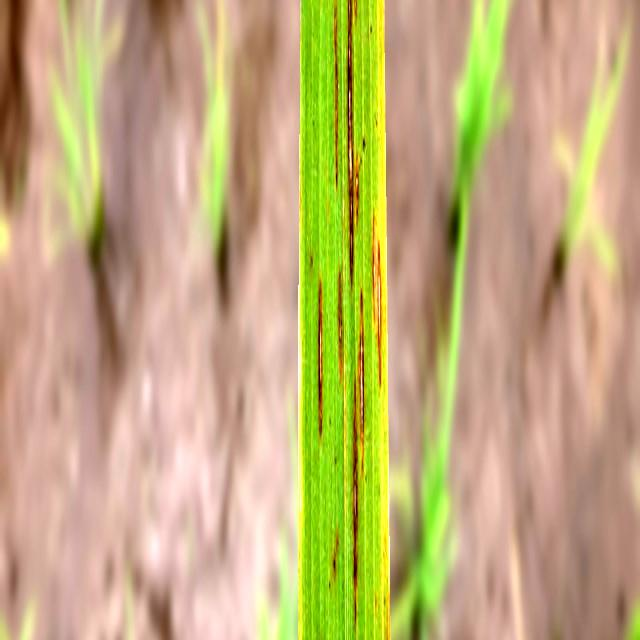NBS: (372, 45, 388, 458), (348, 0, 353, 282), (353, 379, 358, 618), (334, 3, 338, 186), (318, 277, 322, 435), (360, 296, 363, 470), (338, 269, 342, 381), (356, 155, 359, 226), (382, 0, 384, 49), (355, 0, 356, 13)
